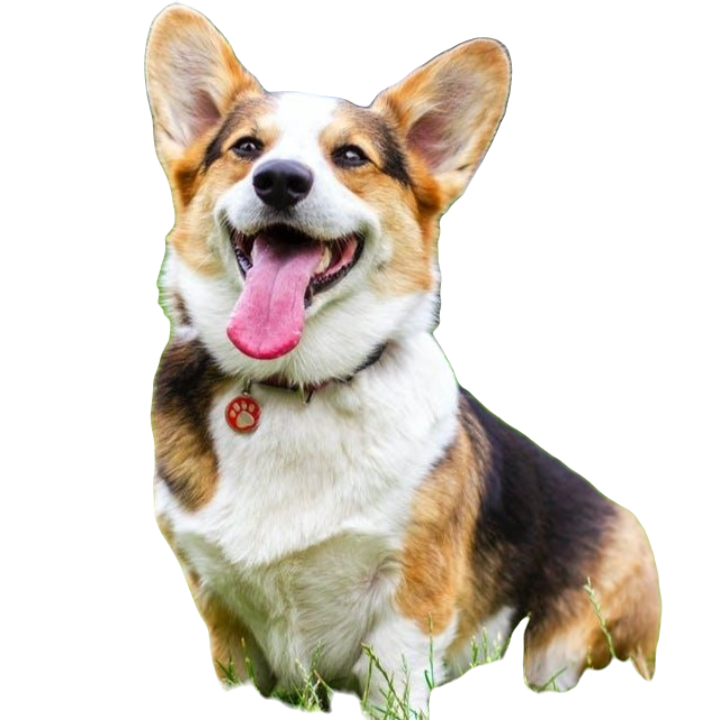Dog: (114, 0, 676, 706)
